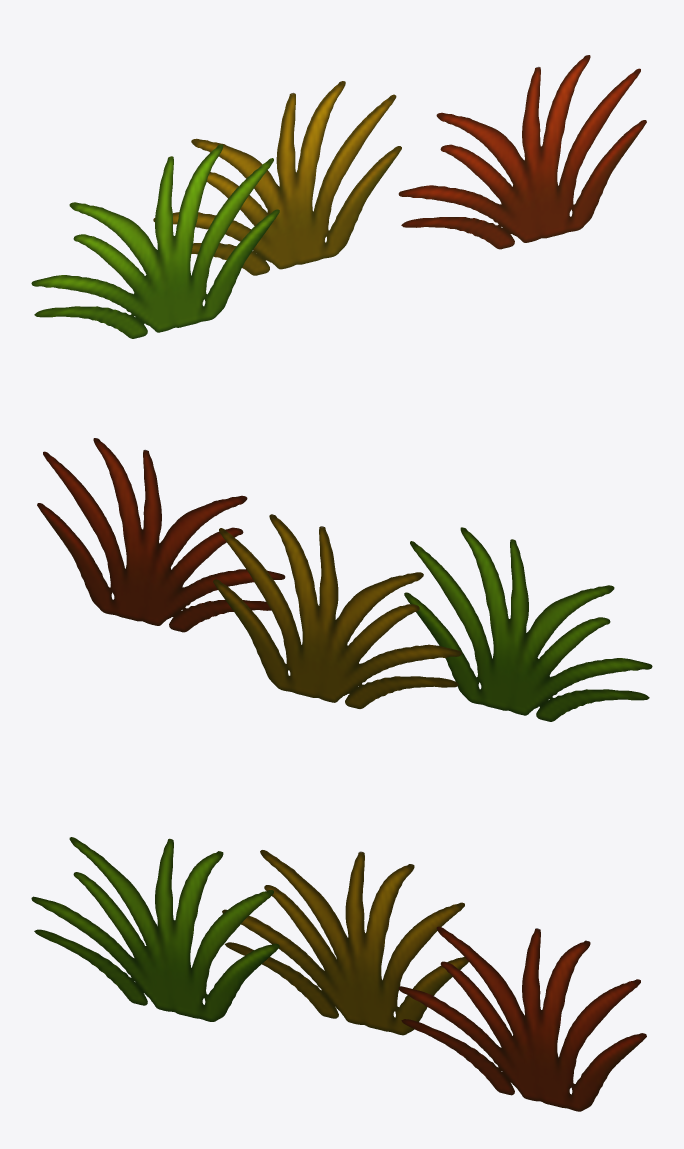
The model's file is bl_caoABC.FBX.
3 views of the same model, one above another, from view 1: azimuth 30°, elevation 25°; view 2: azimuth 150°, elevation 25°; view 3: azimuth 330°, elevation 25° (orthographic).
Visible parts, largest first — view 1: bl_caoA001, bl_caoC001, bl_caoB001; view 2: bl_caoB001, bl_caoA001, bl_caoC001; view 3: bl_caoC001, bl_caoA001, bl_caoB001.
Boxes of the visible parts, bbox=[...] form: bl_caoA001: bbox=[31, 144, 279, 338]; bl_caoC001: bbox=[398, 55, 646, 249]; bl_caoB001: bbox=[153, 81, 401, 275]; bl_caoB001: bbox=[213, 514, 461, 708]; bl_caoA001: bbox=[404, 527, 652, 721]; bl_caoC001: bbox=[37, 438, 285, 632]; bl_caoC001: bbox=[398, 926, 646, 1111]; bl_caoA001: bbox=[31, 837, 279, 1021]; bl_caoB001: bbox=[222, 850, 468, 1035].
Size of the model in its own units: 194 by 54.74 by 17.98.
